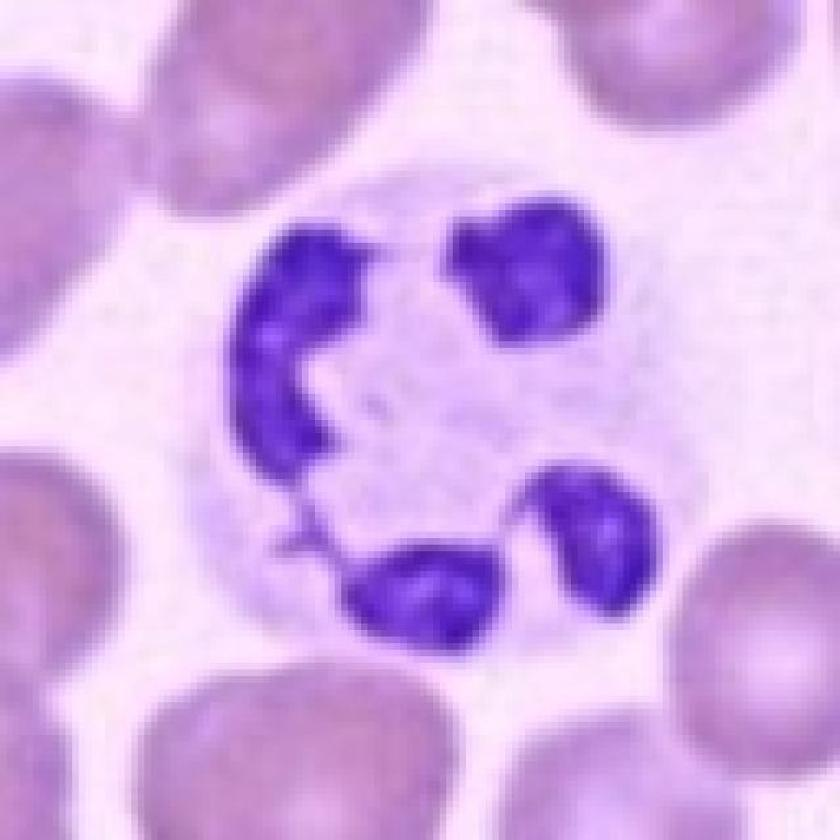neutrophil: (169, 167, 694, 667)
